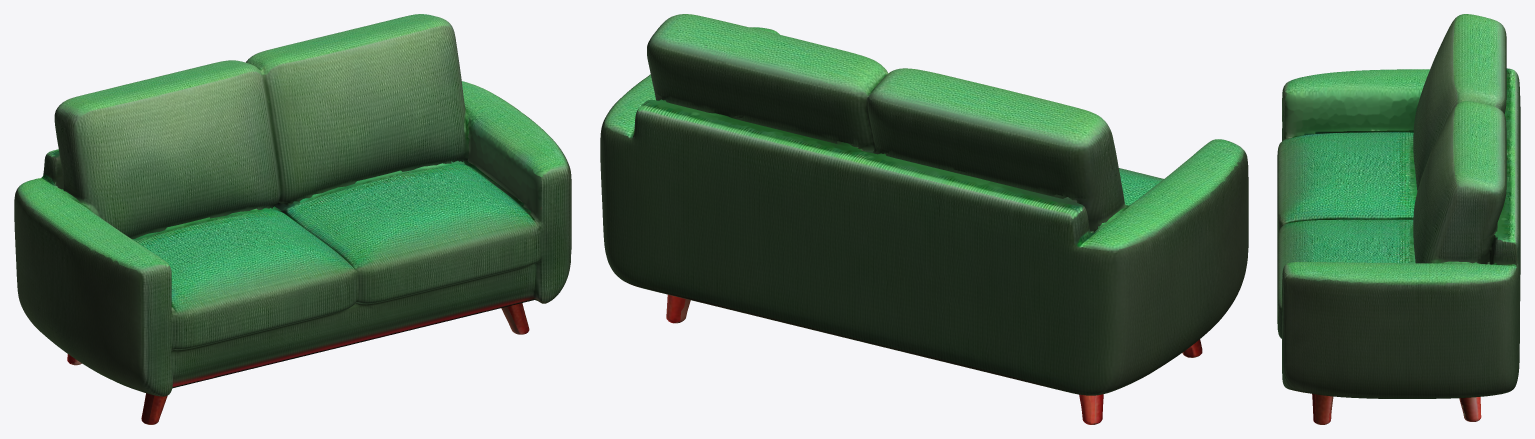
Rendered from couch__couch#1.glb.
The picture shows the model from 3 angles, left to right: view 1: azimuth 30°, elevation 25°; view 2: azimuth 150°, elevation 25°; view 3: azimuth 270°, elevation 25°; orthographic projection. The views are drawn at different scales.
Parts seen in each view (by area): view 1: tmpnpc7ebqs.ply; view 2: tmpnpc7ebqs.ply; view 3: tmpnpc7ebqs.ply.
Part boxes in pixels (x1=…): tmpnpc7ebqs.ply: x1=14, y1=14, x2=571, y2=424; tmpnpc7ebqs.ply: x1=600, y1=14, x2=1248, y2=424; tmpnpc7ebqs.ply: x1=1277, y1=14, x2=1520, y2=424.
Size of the model in its own units: 1.99 by 1.04 by 0.9433.
Materials: 1 (1 with a texture image).
